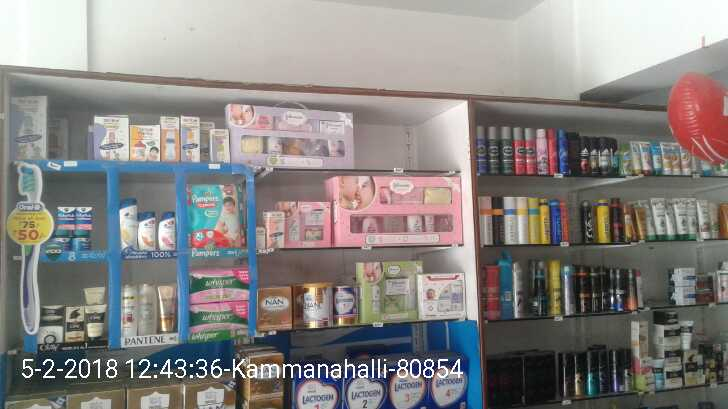beauty: (137, 282, 158, 334), (119, 197, 139, 250), (120, 282, 138, 336), (158, 283, 177, 334), (41, 305, 64, 343), (64, 304, 85, 341), (86, 304, 107, 340), (158, 211, 176, 251), (137, 211, 155, 251)
pharmacy: (186, 182, 242, 246), (190, 268, 248, 299), (189, 301, 249, 329), (75, 204, 96, 230), (55, 205, 74, 230)
